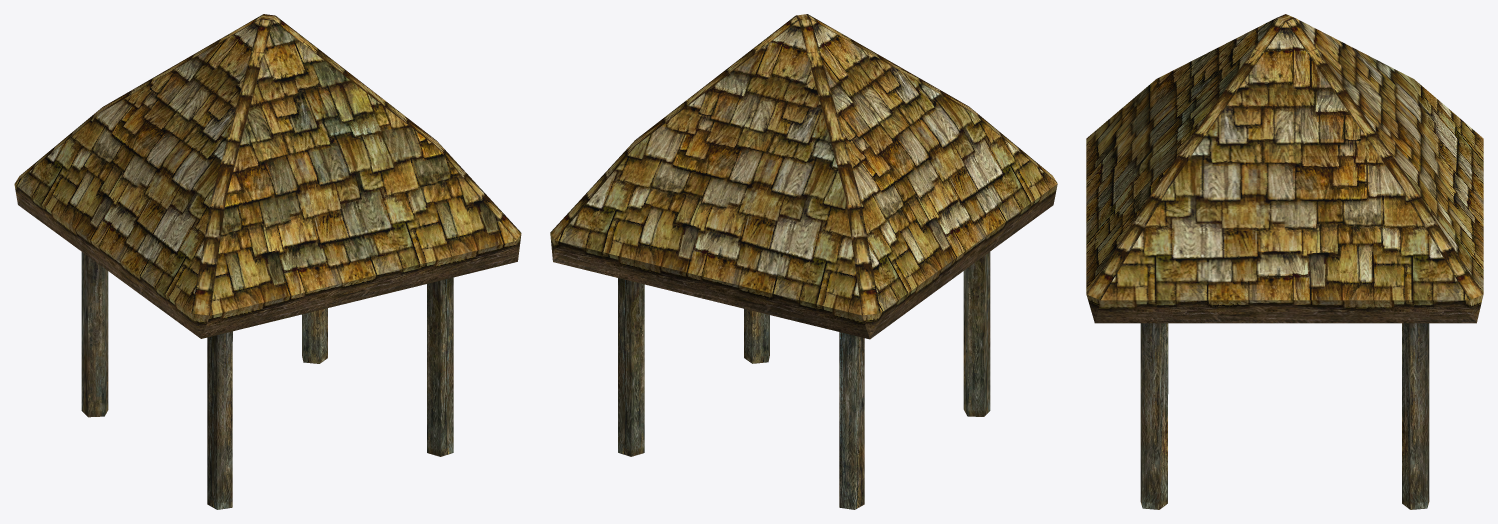
Rendered from hrz39.glb.
The picture shows the model from 3 angles, left to right: view 1: azimuth 30°, elevation 25°; view 2: azimuth 150°, elevation 25°; view 3: azimuth 270°, elevation 25°; orthographic projection. The views are drawn at different scales.
Visible parts, largest first — view 1: hrz39; view 2: hrz39; view 3: hrz39.
Part boxes in pixels (x1,y1,x2,y2): hrz39: (14, 14, 521, 509); hrz39: (550, 14, 1057, 509); hrz39: (1086, 14, 1483, 509).
Size of the model in its own units: 6.7 by 8.02 by 6.7.
5 materials, 5 textured.
